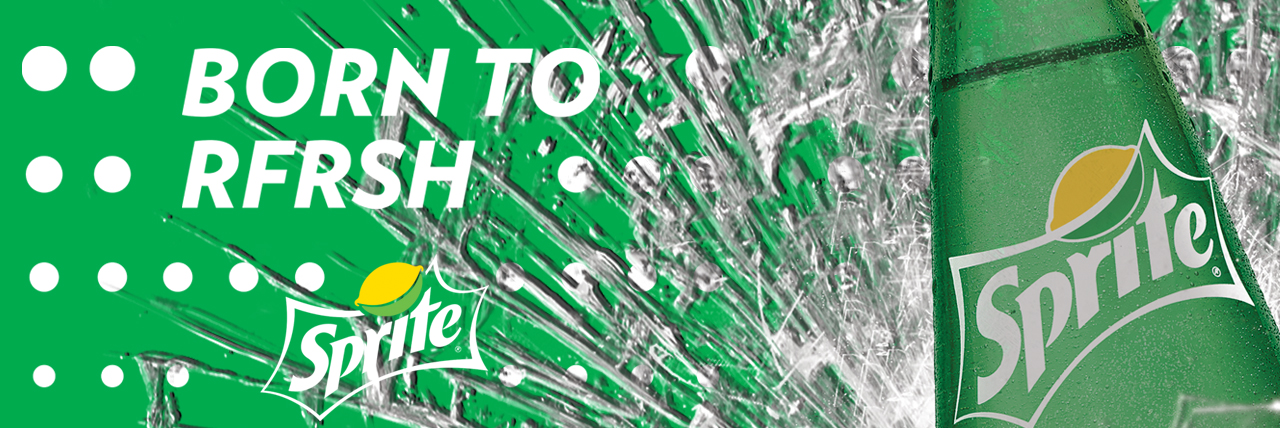sprite: (974, 165, 1213, 402), (289, 287, 461, 402)
